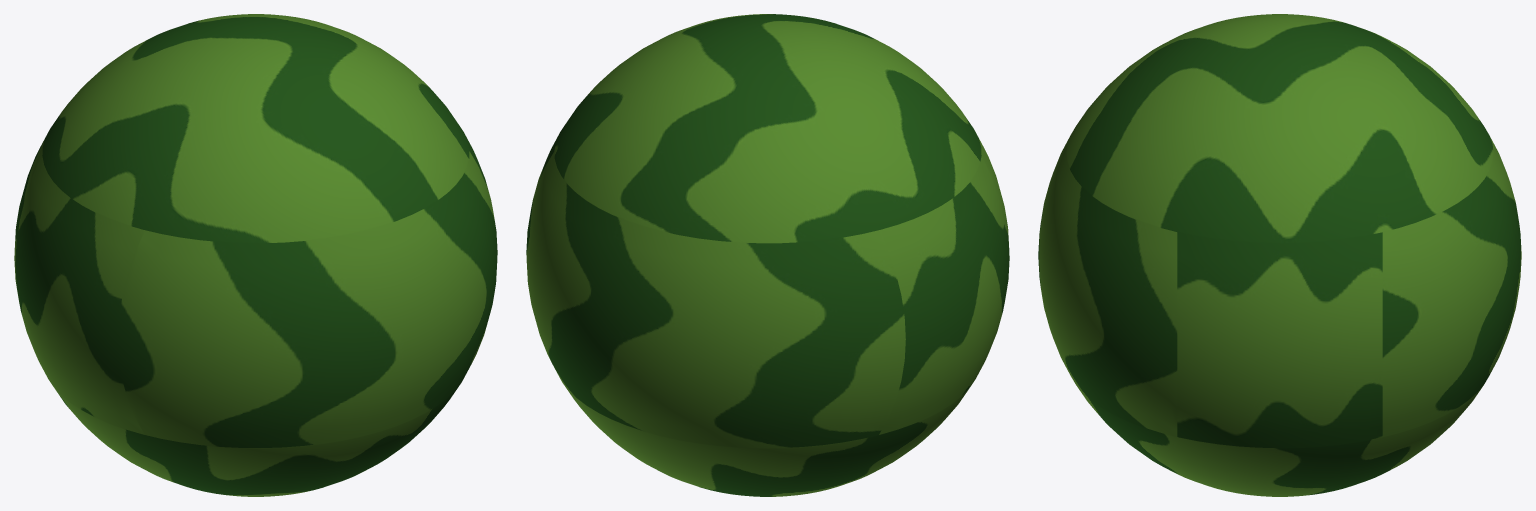
Rendered from watermelon.FBX.
3 renders of one model, left to right at view 1: azimuth 30°, elevation 25°; view 2: azimuth 150°, elevation 25°; view 3: azimuth 270°, elevation 25°, orthographic.
Parts seen in each view (by area): view 1: 1_04, 1_00, 1_02, 1_01, 1_05; view 2: 1_05, 1_00, 1_02, 1_01, 1_04; view 3: 1_00, 1_03, 1_05, 1_04, 1_01.
Part boxes in pixels (bbox=[...]): 1_04: bbox=[118, 151, 497, 447]; 1_00: bbox=[42, 14, 469, 243]; 1_02: bbox=[15, 156, 144, 434]; 1_01: bbox=[54, 382, 461, 496]; 1_05: bbox=[14, 133, 47, 295]; 1_05: bbox=[526, 151, 905, 447]; 1_00: bbox=[554, 14, 981, 243]; 1_02: bbox=[879, 156, 1008, 434]; 1_01: bbox=[562, 382, 969, 496]; 1_04: bbox=[976, 133, 1009, 295]; 1_00: bbox=[1066, 14, 1493, 243]; 1_03: bbox=[1177, 232, 1382, 448]; 1_05: bbox=[1382, 137, 1521, 436]; 1_04: bbox=[1038, 137, 1177, 436]; 1_01: bbox=[1076, 385, 1483, 496].
Size of the model in its own units: 132 by 132 by 132.
